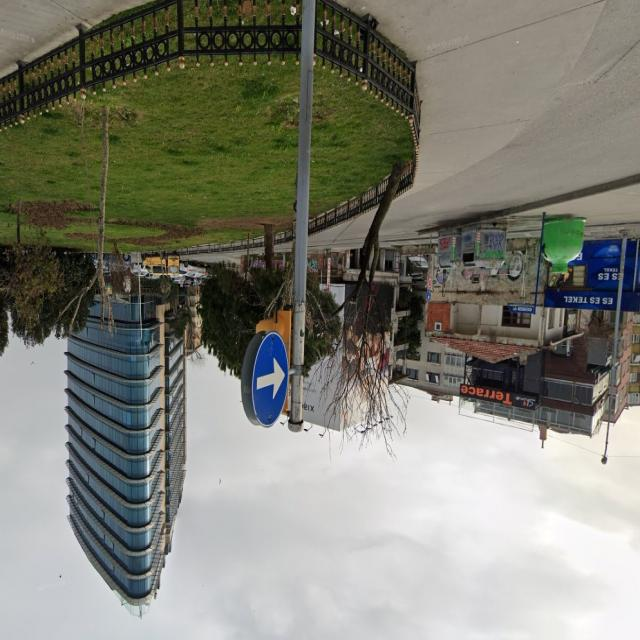Turn Right: (252, 335, 293, 427)
